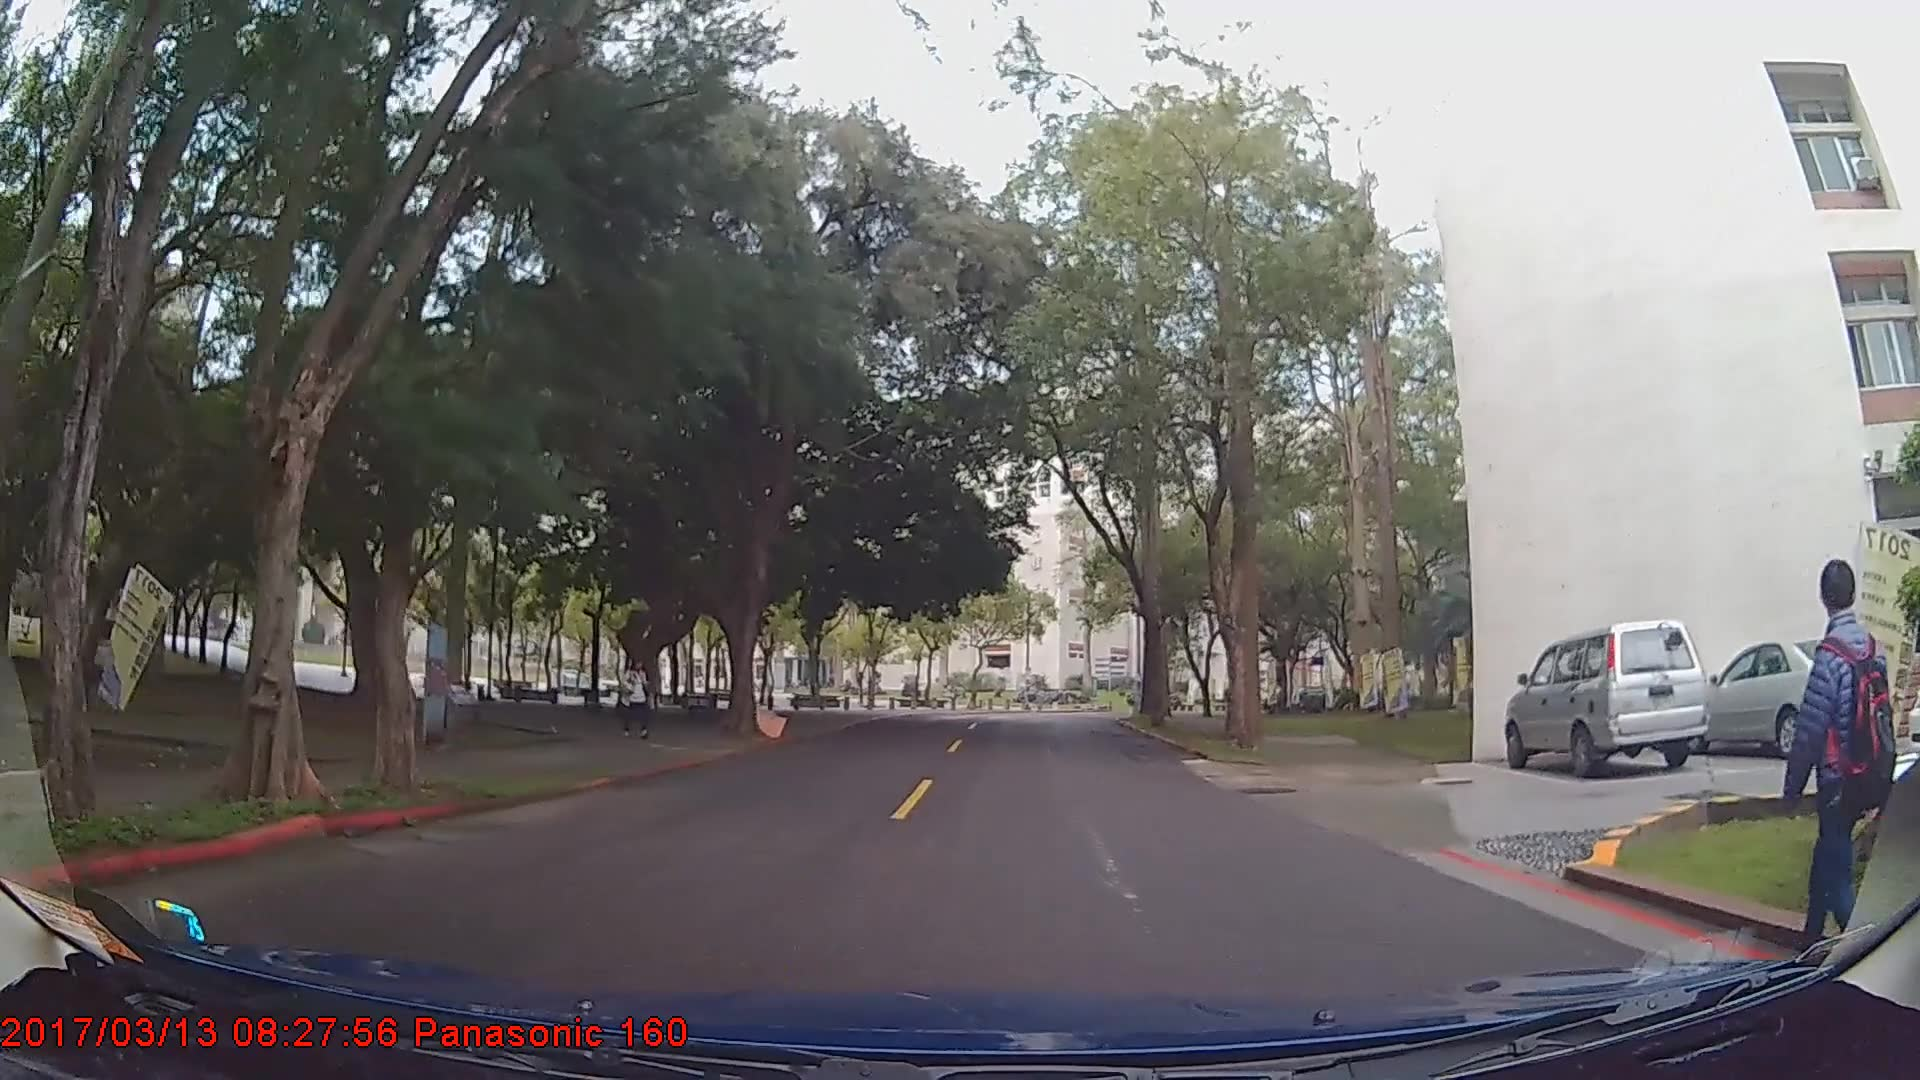pedestrian: (1783, 557, 1896, 988), (622, 654, 654, 738)
vehicle: (1506, 617, 1711, 777), (1690, 635, 1909, 759)
